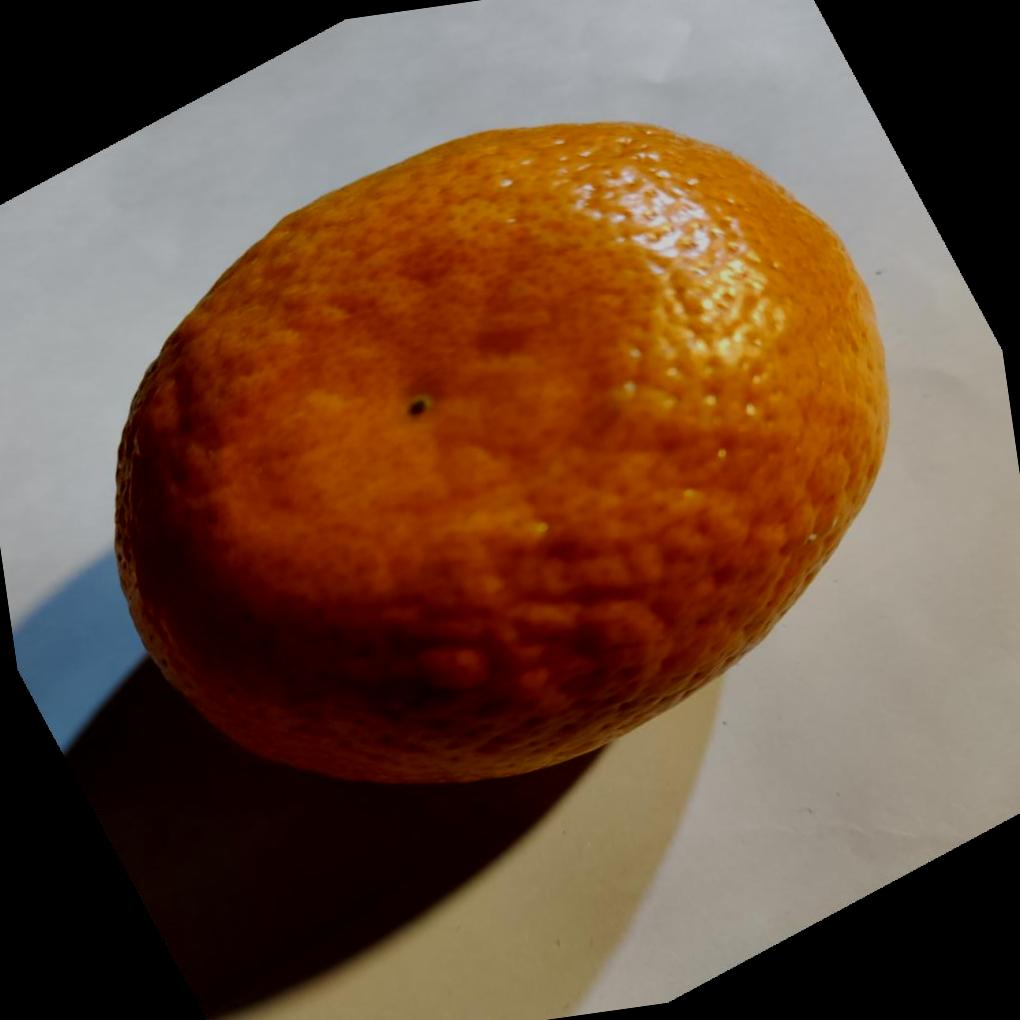FreshGuava: (116, 117, 896, 786)
